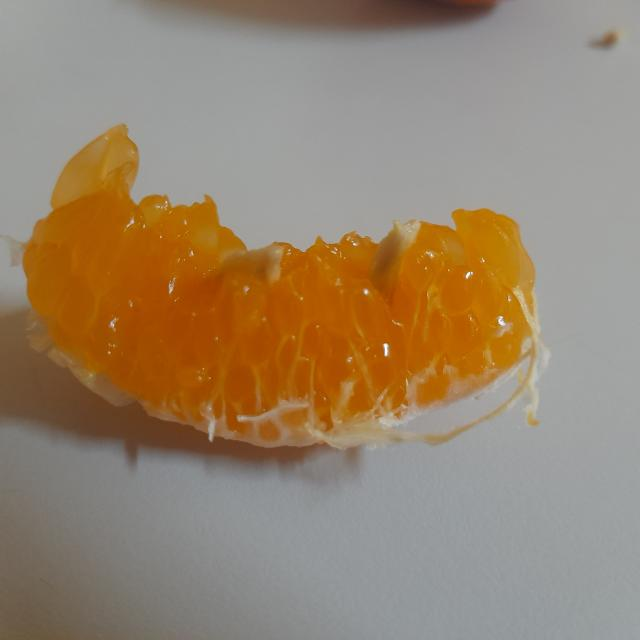Cam: (26, 128, 547, 472)
